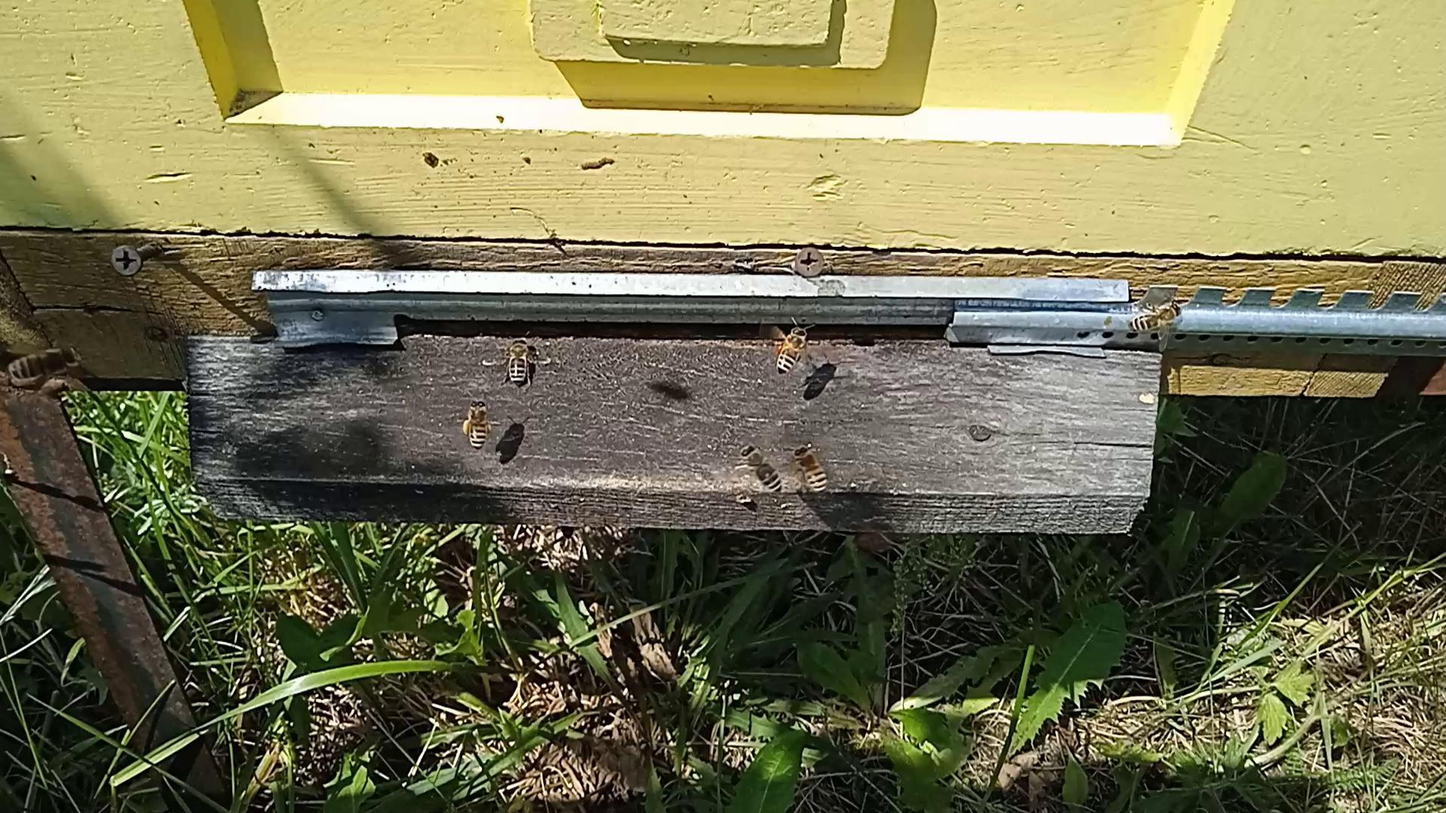worker-bee: (4, 349, 84, 386), (740, 444, 782, 494), (1127, 301, 1185, 335), (792, 442, 829, 495), (776, 324, 813, 374), (503, 336, 535, 386), (463, 399, 491, 450)
